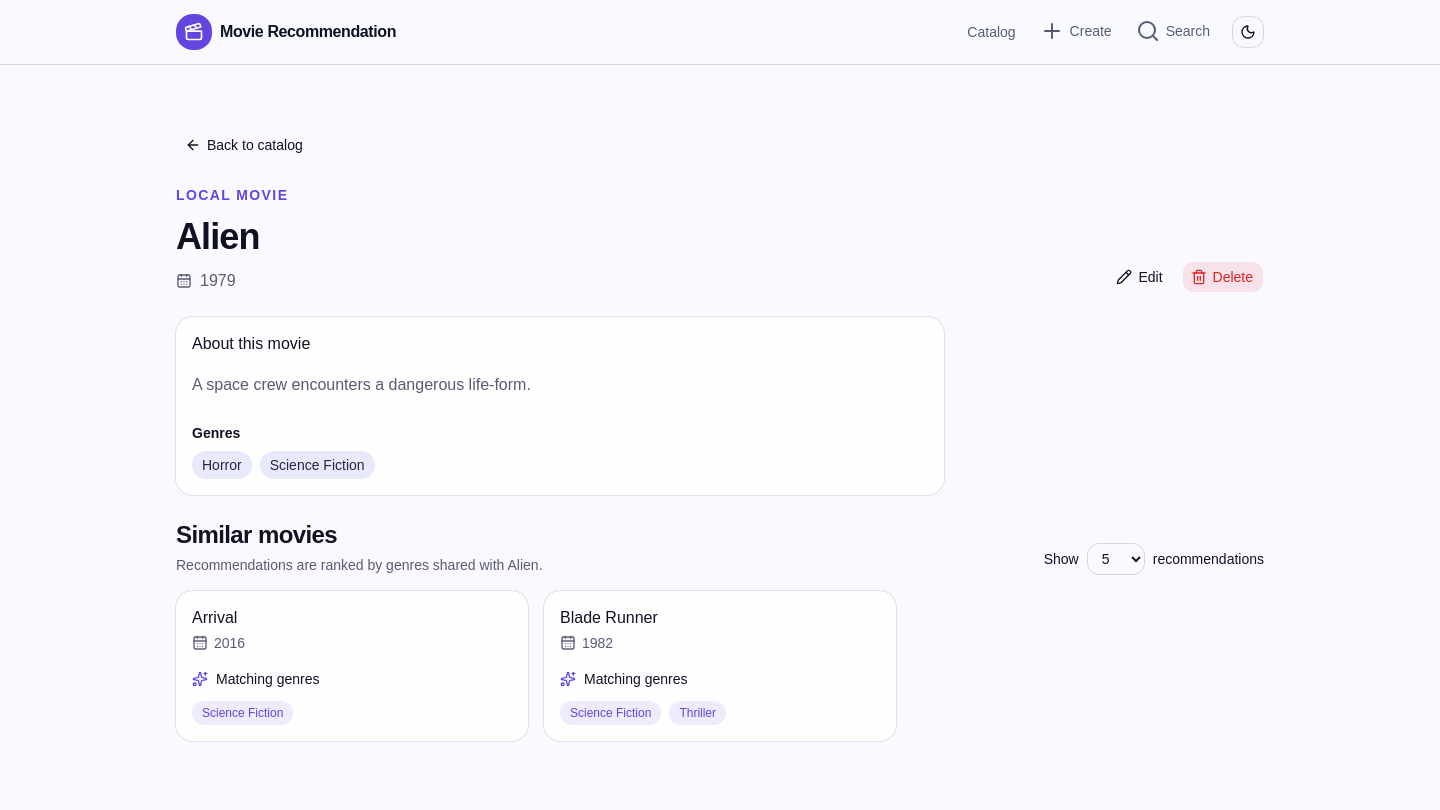
Test: DeleteMovieDialog › blocks duplicate delete requests while pending
The image size is (1440, 810).
Click the button "Delete" at (1223, 277), box 1182,261 -> 1264,293
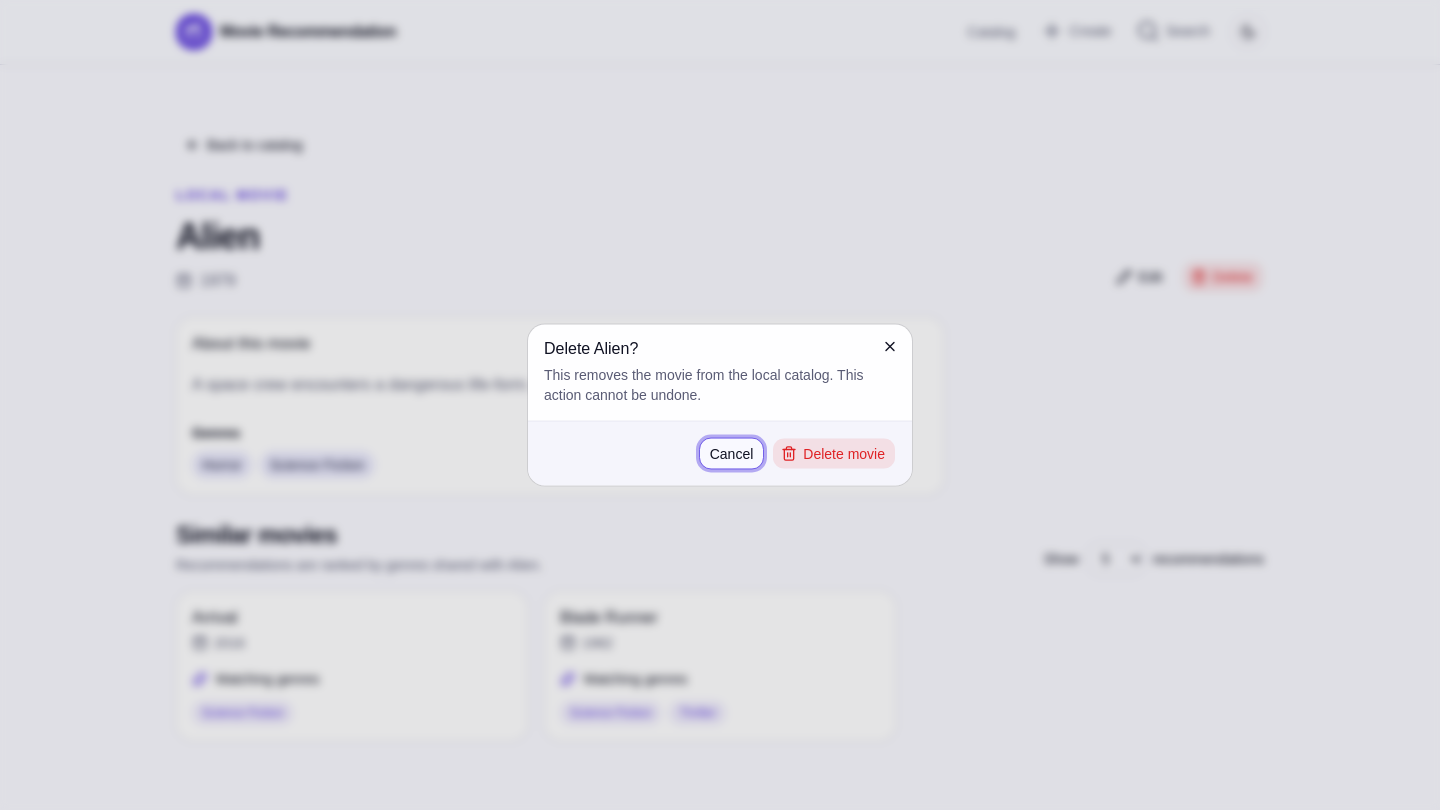
Double-click the button "Delete movie" at (834, 454), box 772,438 -> 896,470
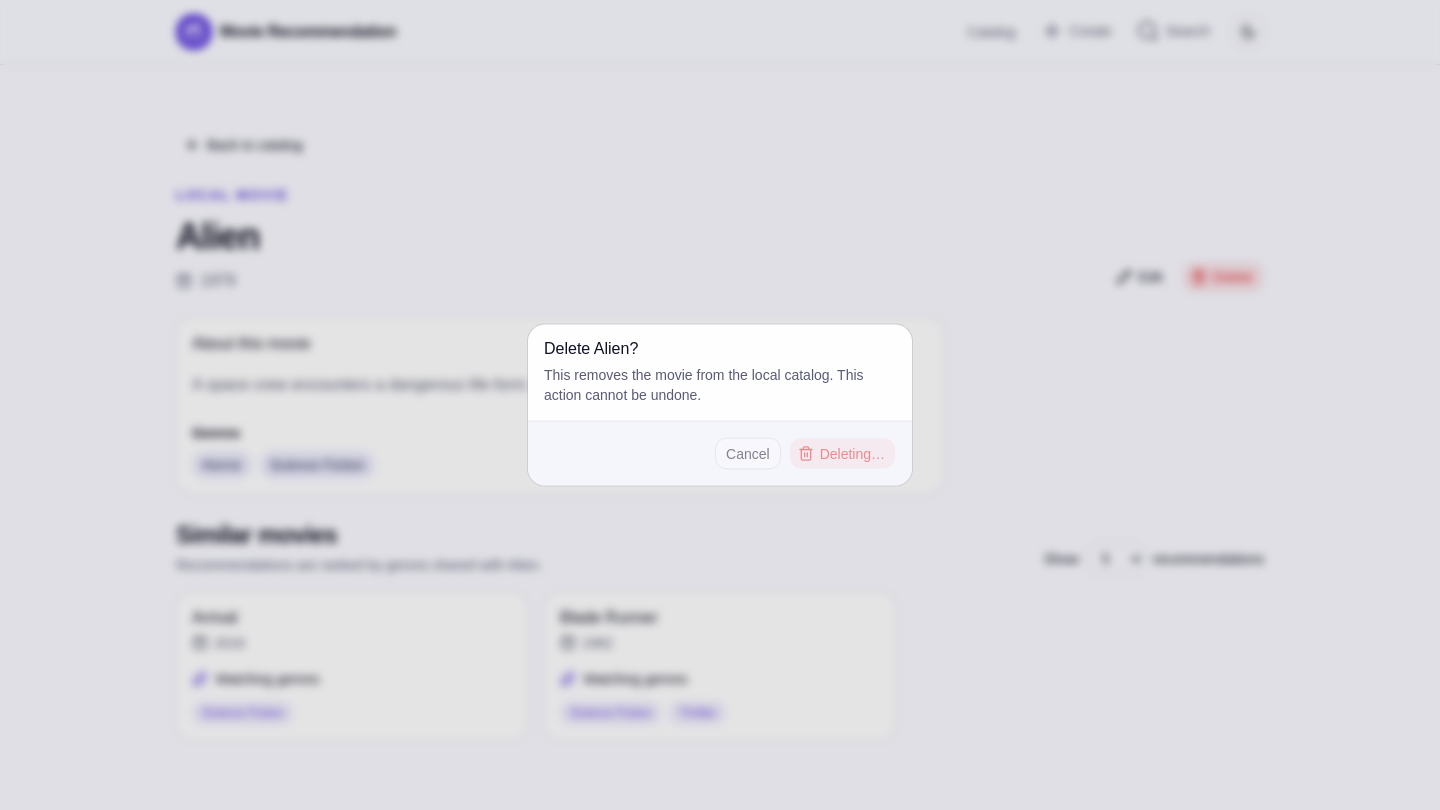
Expected: the button "Deleting…" is disabled, 789,438 -> 896,470
